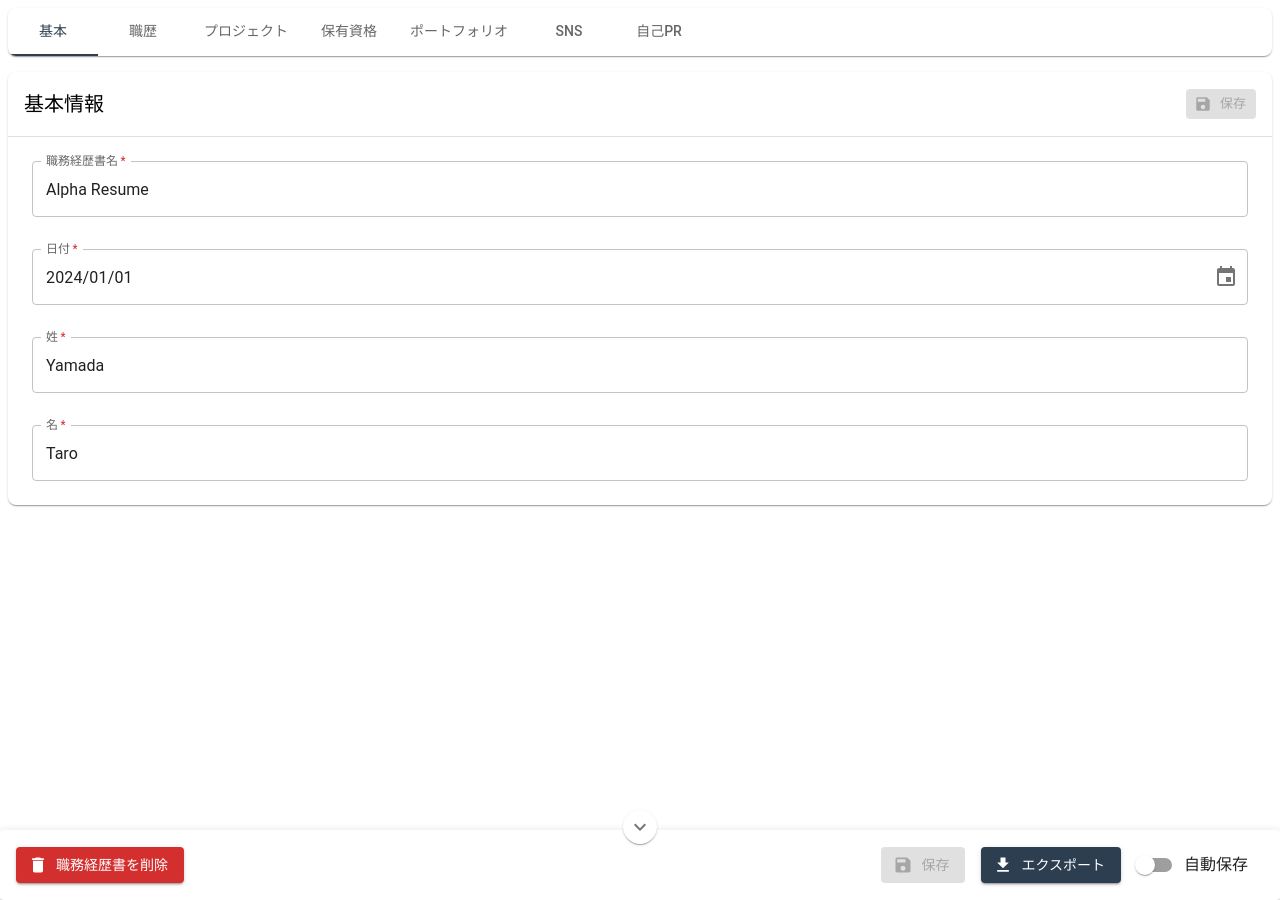
resume editor › 保存APIのfield errorを該当フォームへ表示すること
This screenshot has width=1280, height=900.
Clear the field labelled "職務経歴書名 *" at (640, 189), box [32,161,1248,217]
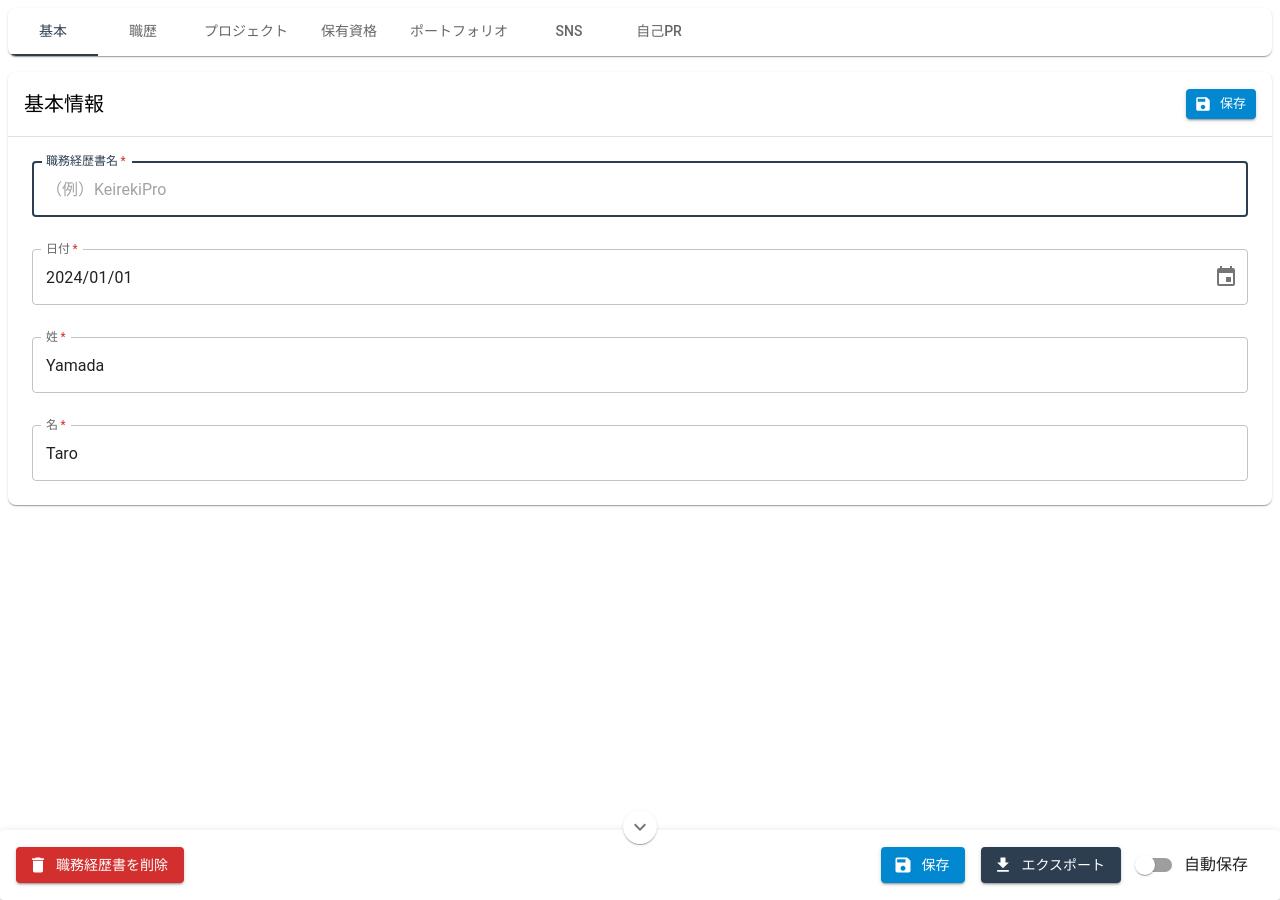
Click the button with aria-label "基本情報を保存" at (1221, 104), box [1186,89,1256,119]
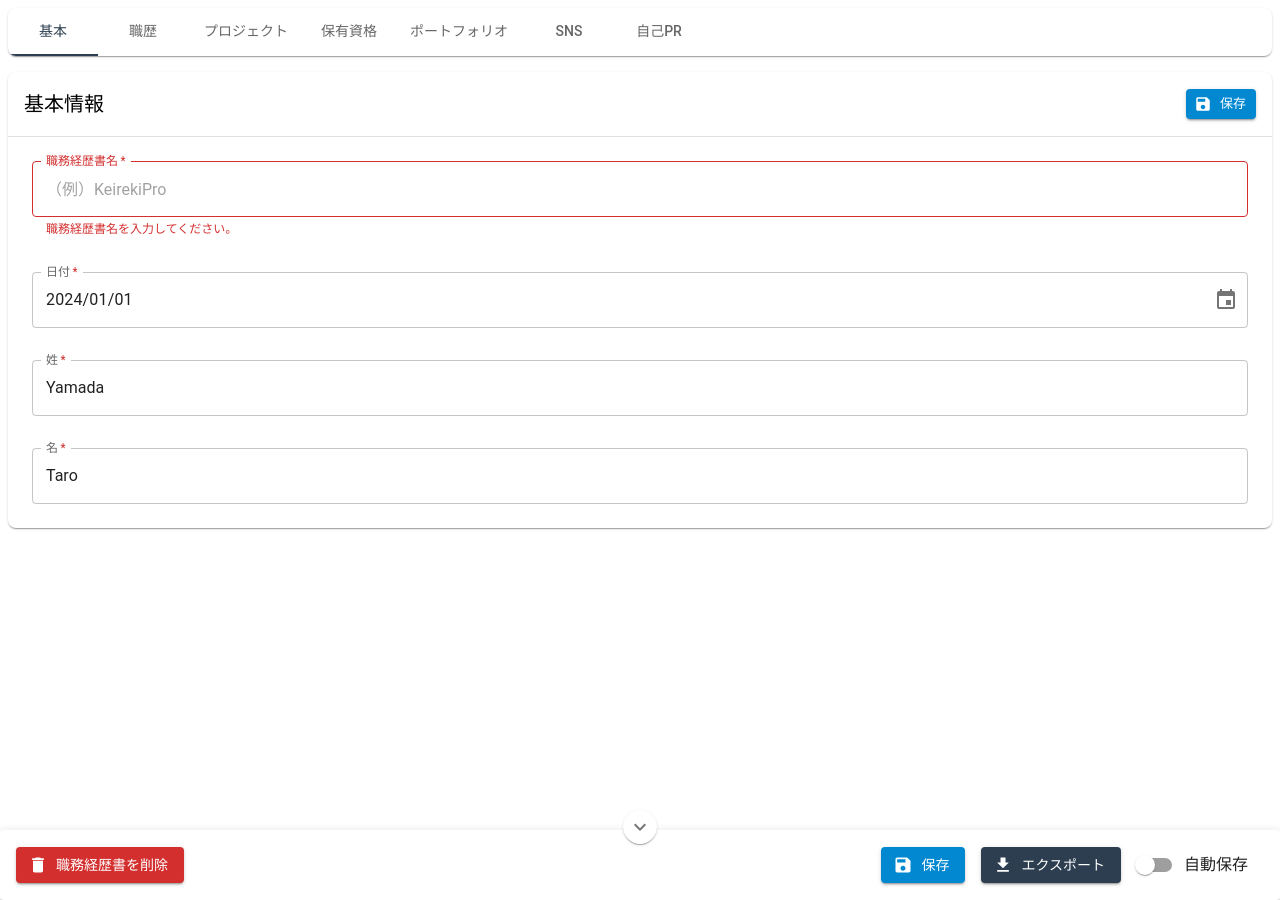
Now the text "職務経歴書名を入力してください。" is shown, box [46,222,237,236]
